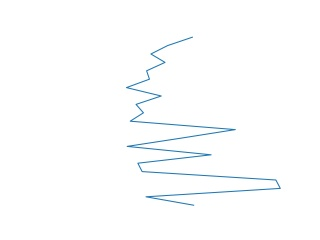crevasseRiverBedLagDeposit: (120, 33, 287, 211)
